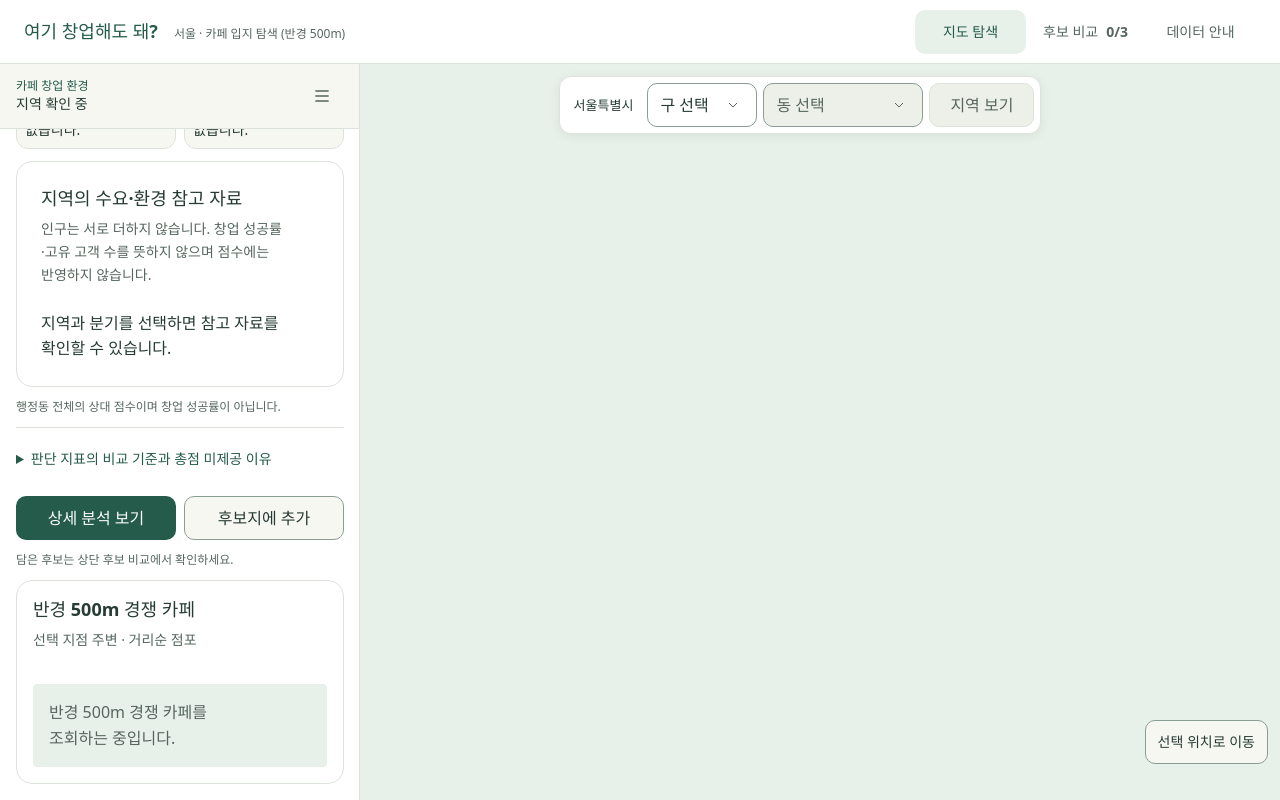
Test: shows loading and a real zero separately from unavailable data
(page scrolled)
Expected: the dropdown named "자치구" is enabled, [647,83,757,127]
Click the button "상세 분석 보기" at (96, 518), box [16,496,176,540]
(page scrolled)
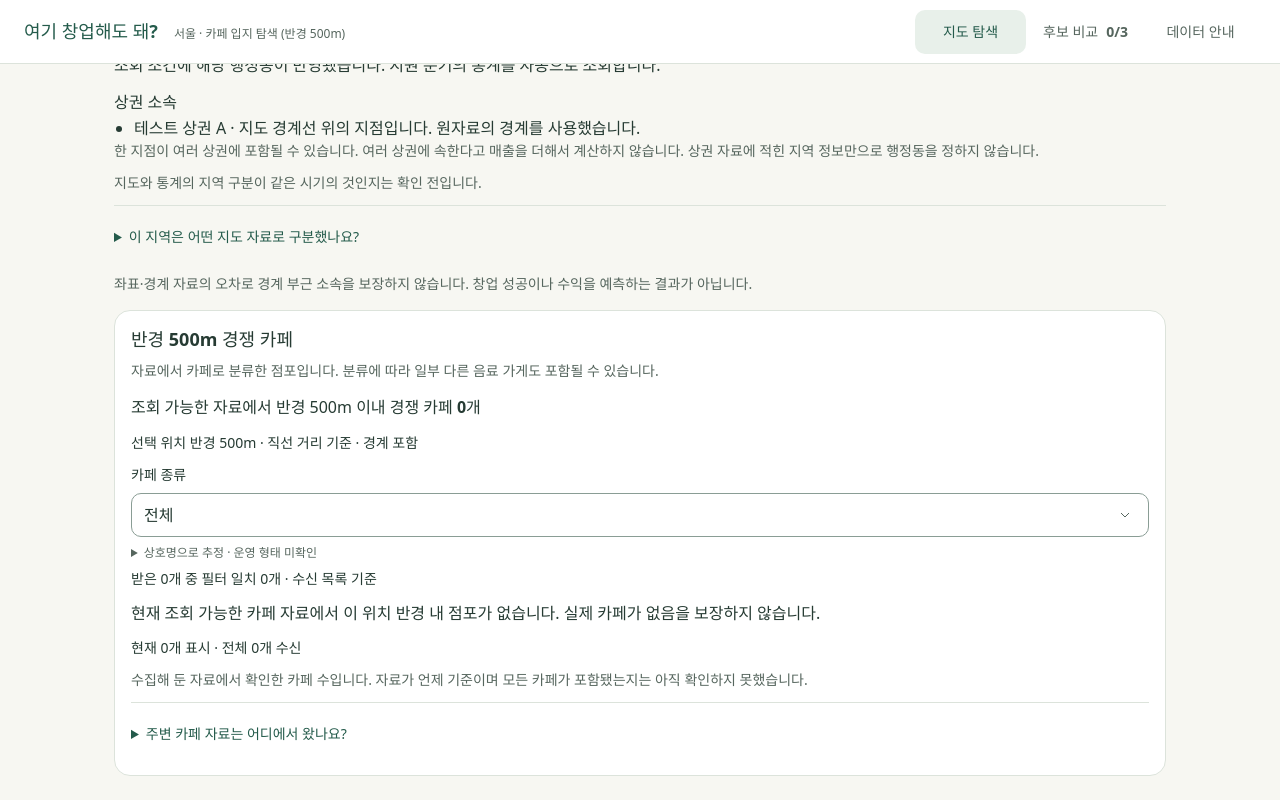
Expected: the text "반경 500m 경쟁 카페를 조회하는 중입니다." is shown, [131,396,481,418]
Expected: the text "현재 조회 가능한 카페 자료에서 이 위치 반경 내 점포가 없습니다. 실제 카페가 없음을 보장하지 않습니다." is shown, [131,602,820,624]
